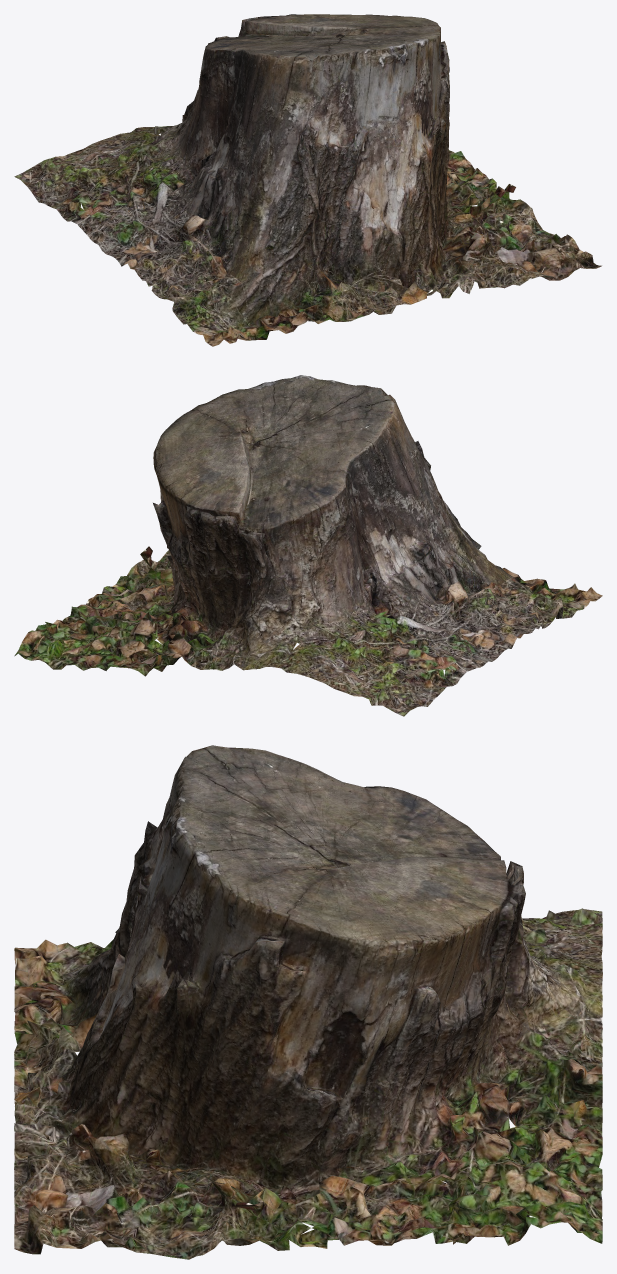
File: freepoly_stump.glb
3 views of the same model, one above another, from view 1: azimuth 30°, elevation 25°; view 2: azimuth 150°, elevation 25°; view 3: azimuth 270°, elevation 25° (orthographic). The views are drawn at different scales.
Parts seen in each view (by area): view 1: Scan Tree stump-Freepoly.org.001; view 2: Scan Tree stump-Freepoly.org.001; view 3: Scan Tree stump-Freepoly.org.001.
Boxes of the visible parts, <box> form: Scan Tree stump-Freepoly.org.001: <box>14,14,602,346</box>; Scan Tree stump-Freepoly.org.001: <box>14,375,602,716</box>; Scan Tree stump-Freepoly.org.001: <box>14,745,602,1259</box>.
Bounding box in the file's own units: 0.4215 × 0.2408 × 0.3732.
Materials: 1 (1 with a texture image).
